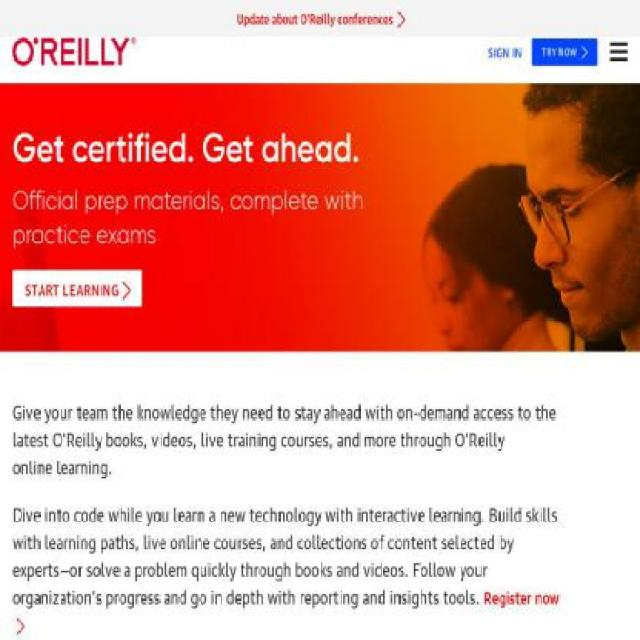button: (12, 270, 143, 307), (12, 37, 137, 66), (598, 20, 639, 83), (532, 39, 598, 66), (488, 37, 523, 61)
